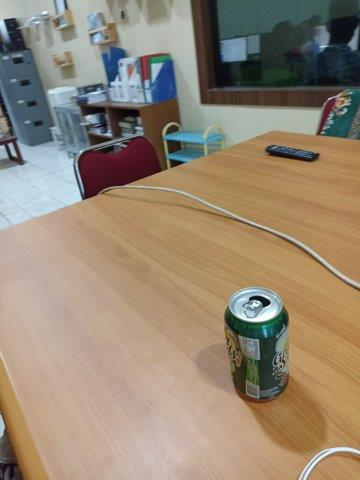kaleng: (224, 286, 290, 403)
